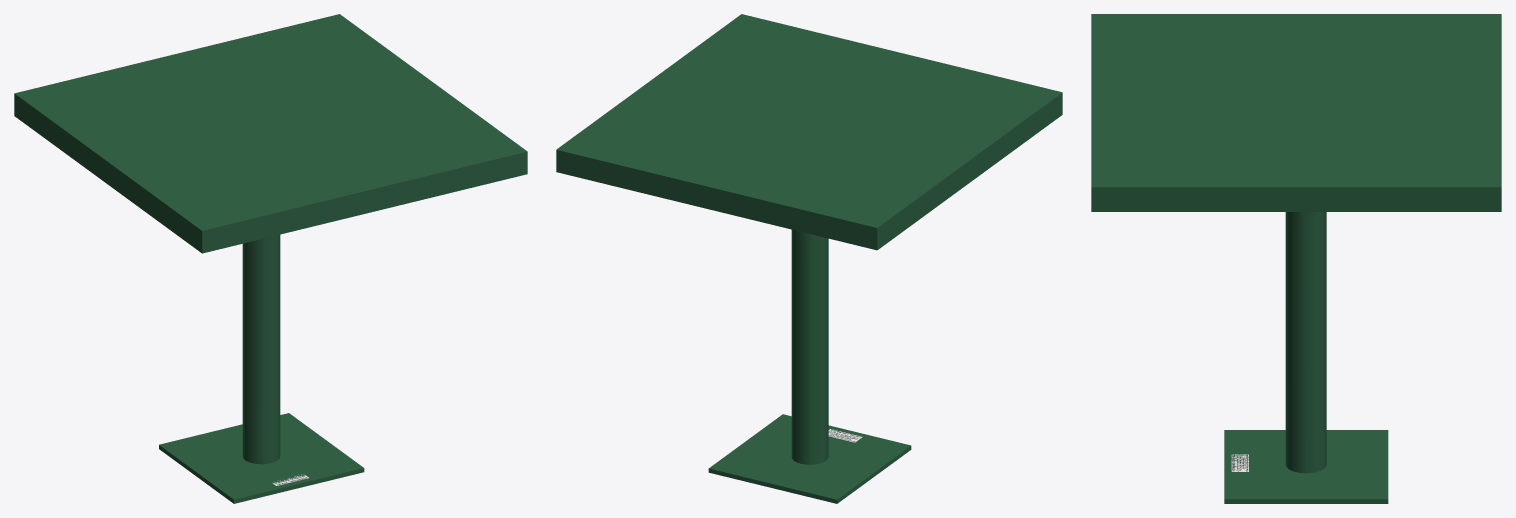
3 renders of one model, left to right at view 1: azimuth 30°, elevation 25°; view 2: azimuth 150°, elevation 25°; view 3: azimuth 270°, elevation 25°, orthographic. The views are drawn at different scales.
Parts seen in each view (by area): view 1: spct-30 (×3); view 2: spct-30 (×3); view 3: spct-30 (×3).
Part boxes in pixels (x1,y1,x2,y2): spct-30 (×3): [14, 14, 527, 503]; spct-30 (×3): [556, 14, 1062, 503]; spct-30 (×3): [1091, 14, 1501, 503].
Size of the model in its own units: 30 by 30 by 29.97.
13 materials, 1 textured.
